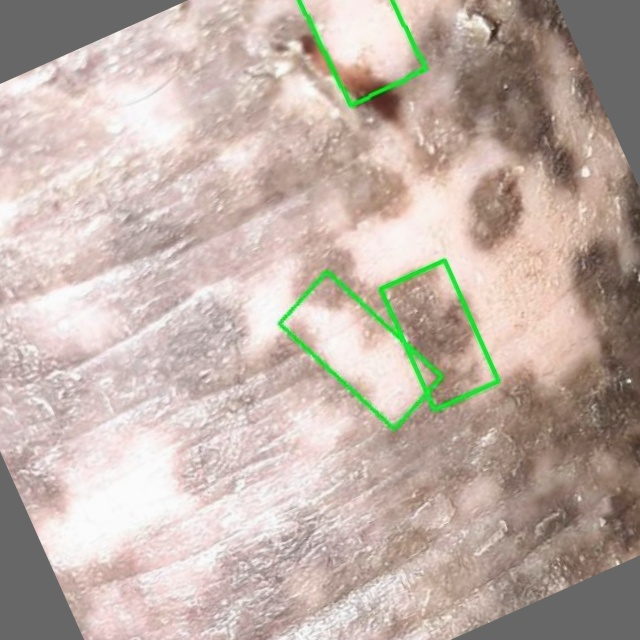Eczema: (279, 272, 442, 429), (380, 260, 498, 409), (298, 0, 425, 106)
